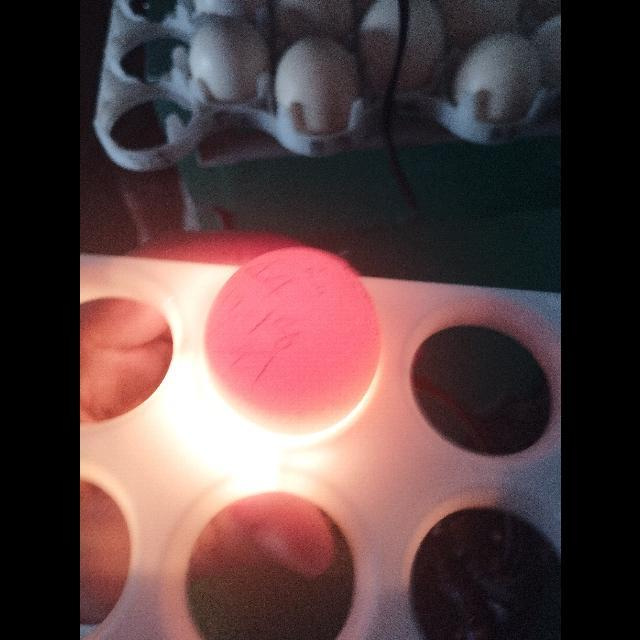A - Good: (194, 245, 383, 443)
